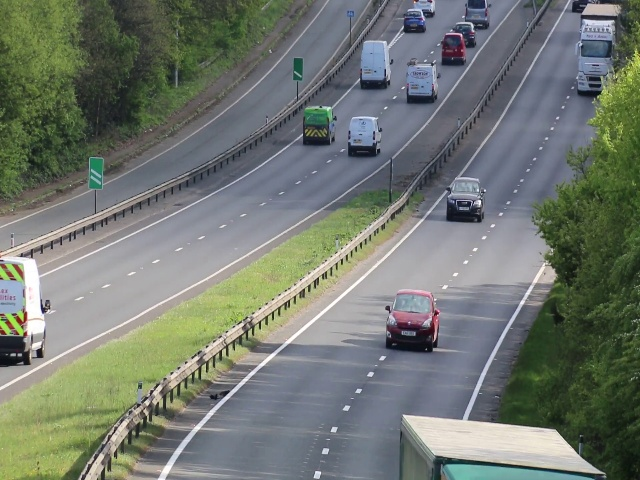car: (1, 264, 46, 363), (385, 287, 439, 352), (445, 176, 488, 223), (359, 39, 391, 91), (404, 60, 438, 103), (348, 114, 382, 157), (302, 106, 338, 144), (577, 26, 595, 98), (440, 31, 466, 67), (403, 10, 424, 33)
